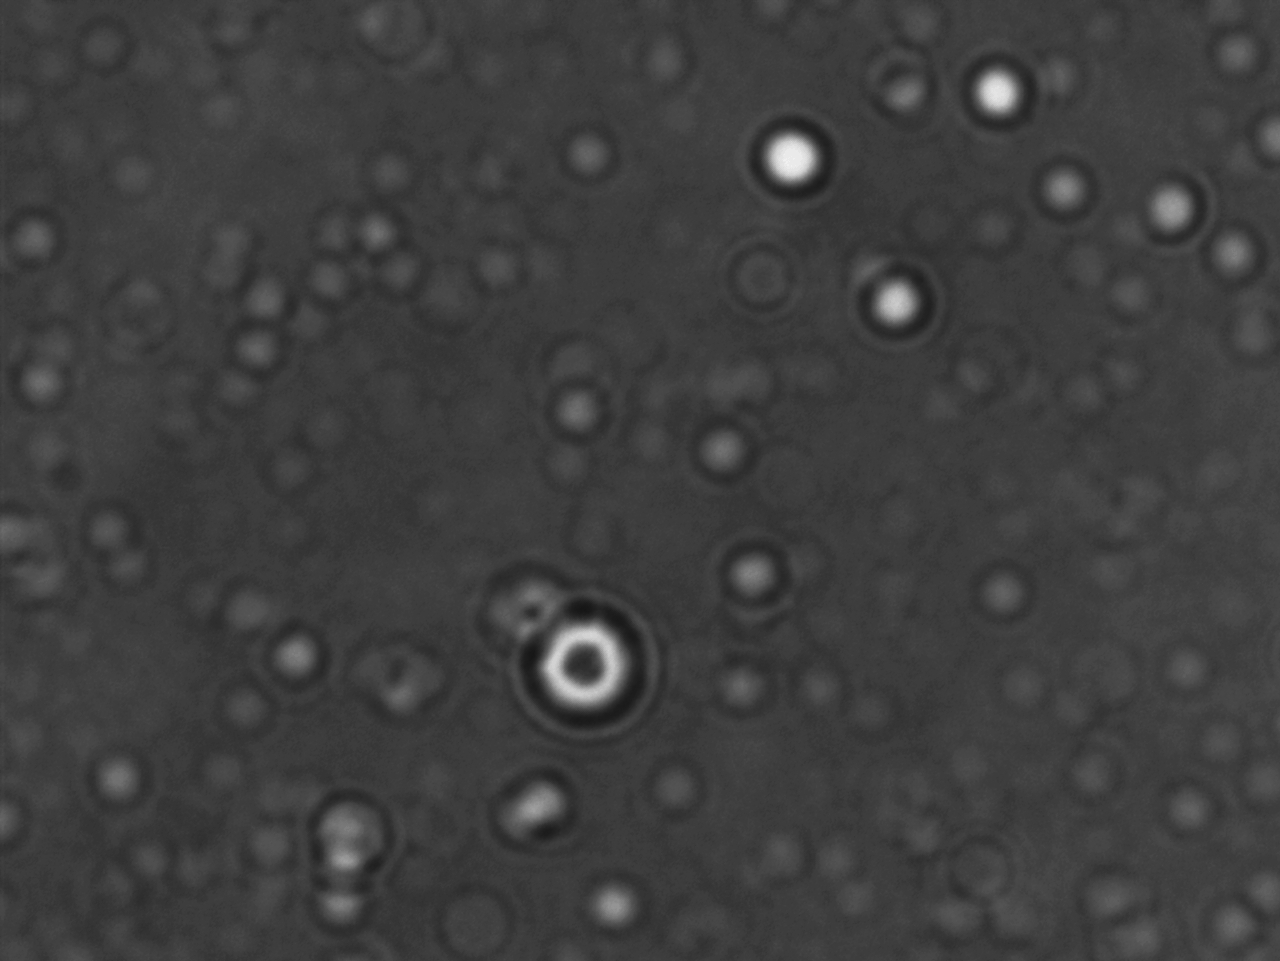depth:24: (509, 593, 658, 733)
